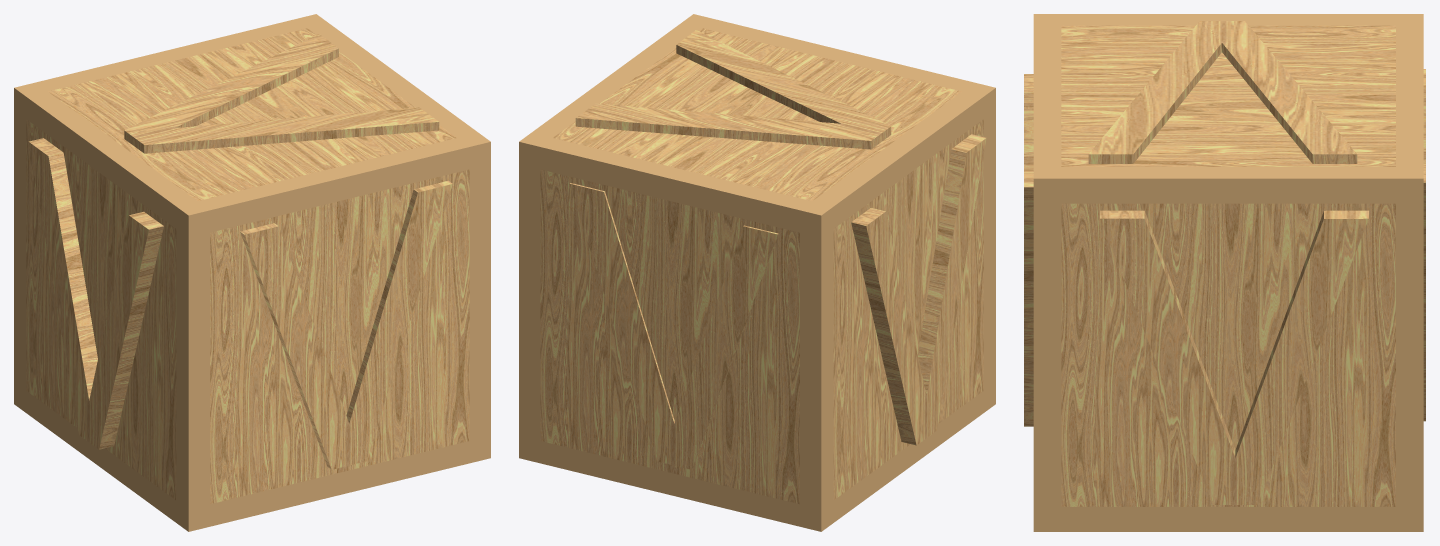
The model's file is Block V.fbx.
3 views of the same model, side by side, from view 1: azimuth 30°, elevation 25°; view 2: azimuth 150°, elevation 25°; view 3: azimuth 270°, elevation 25° (orthographic). The views are drawn at different scales.
Visible parts, largest first — view 1: Box, FRONT, LEFT, TOP; view 2: Box, BACK, LEFT, TOP; view 3: Box, RIGHT, TOP, FRONT, BACK.
Boxes of the visible parts, x1,y1,x2,y2 form: Box: (14, 14, 490, 531); FRONT: (240, 180, 452, 469); LEFT: (28, 138, 163, 449); TOP: (124, 34, 439, 153); Box: (519, 14, 995, 531); BACK: (569, 183, 778, 469); LEFT: (851, 134, 986, 445); TOP: (575, 30, 891, 149); Box: (1033, 14, 1423, 531); RIGHT: (1100, 210, 1368, 504); TOP: (1088, 21, 1357, 163); FRONT: (1024, 74, 1033, 426); BACK: (1423, 69, 1425, 421).
Size of the model in its own units: 1.1 by 1.04 by 1.03.
2 materials, 2 textured.
